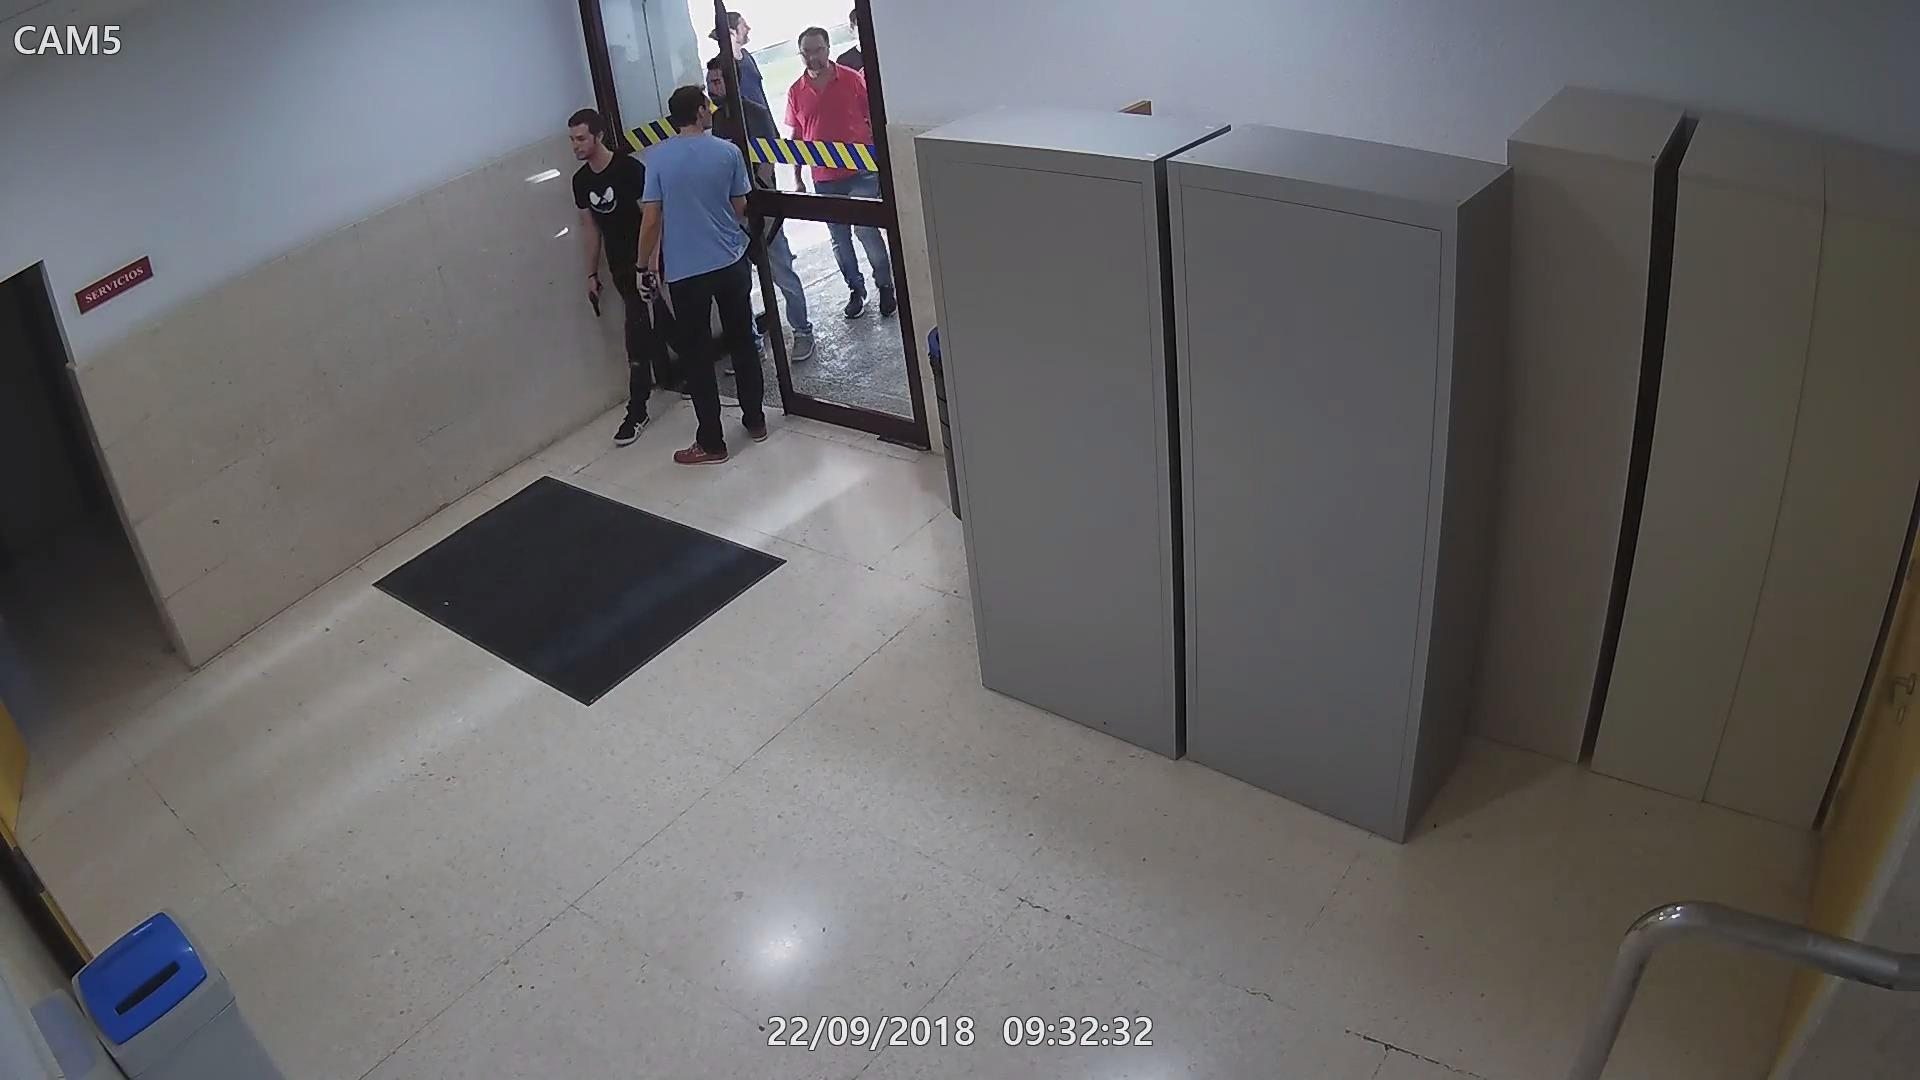Handgun: (634, 268, 663, 332), (582, 272, 609, 316)
